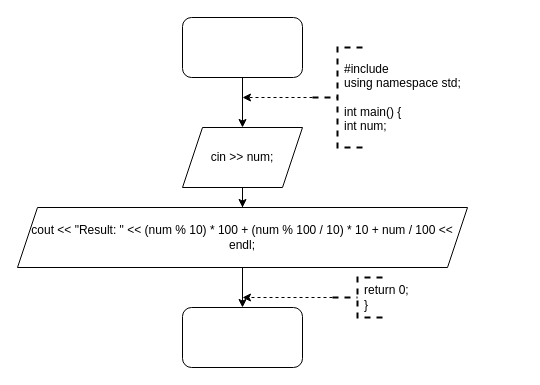
Image size: 540x385. Some labels were removed from this diagram. Here are the shapes that lost their labels. From the top down, the centre of each, then its label:
At pixel 242 47: "Начало".
At pixel 242 337: "Конец".
